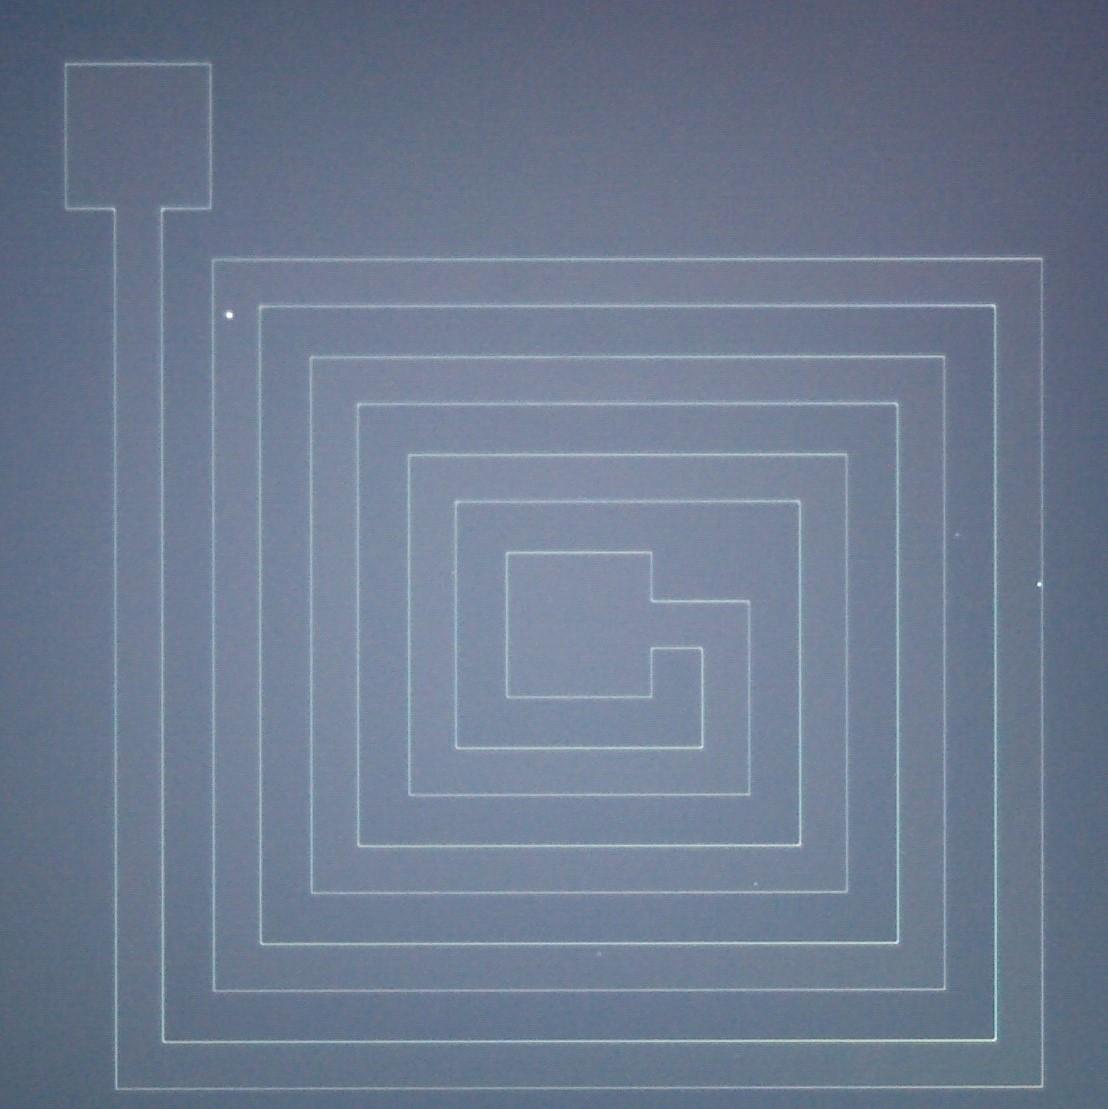B_point: (223, 310, 235, 322)
s_point: (953, 530, 963, 540), (752, 880, 761, 890), (1035, 580, 1044, 588), (596, 950, 604, 959)
